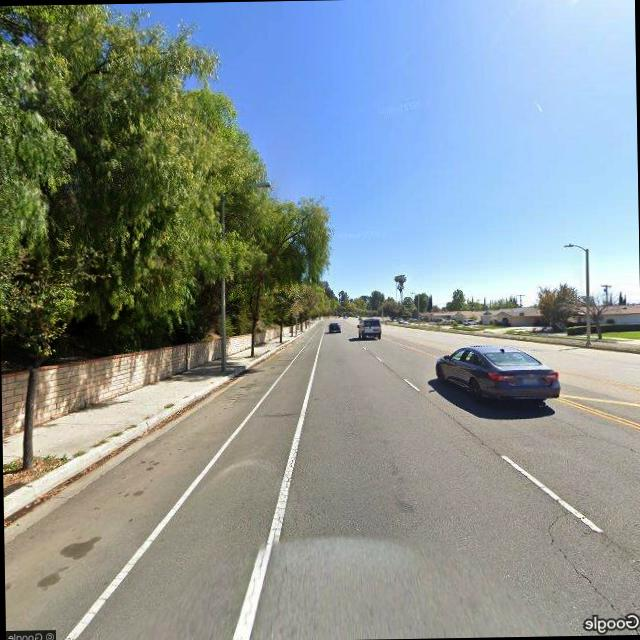pothole: (544, 508, 622, 615)
